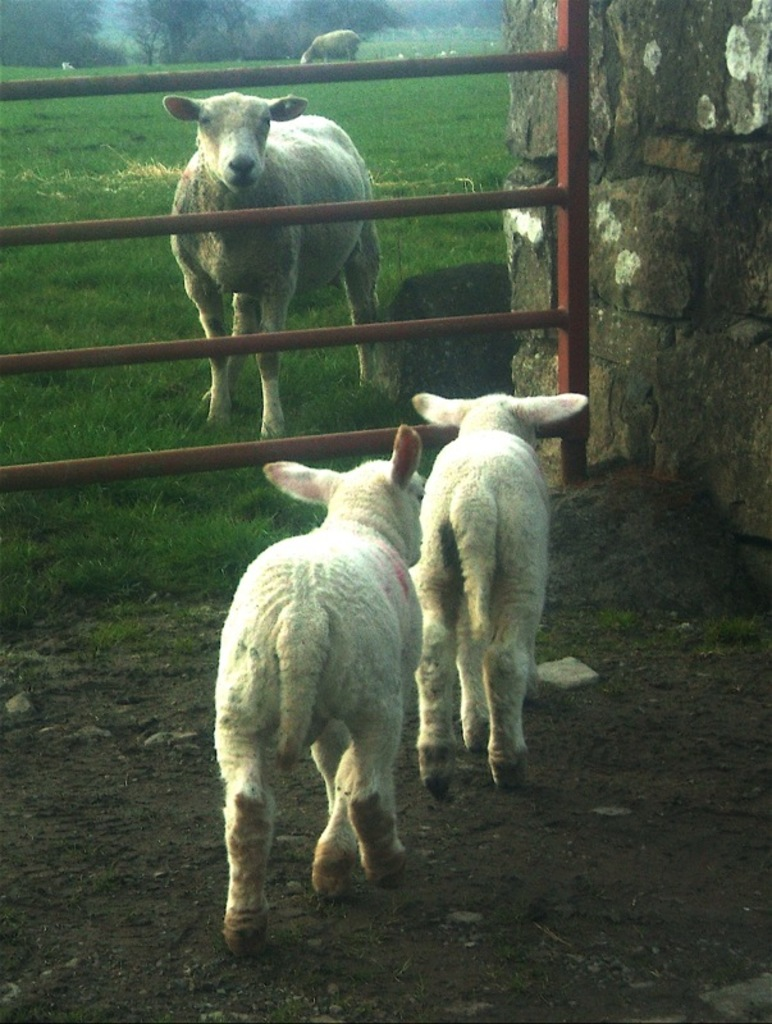sheep: (207, 422, 421, 945)
